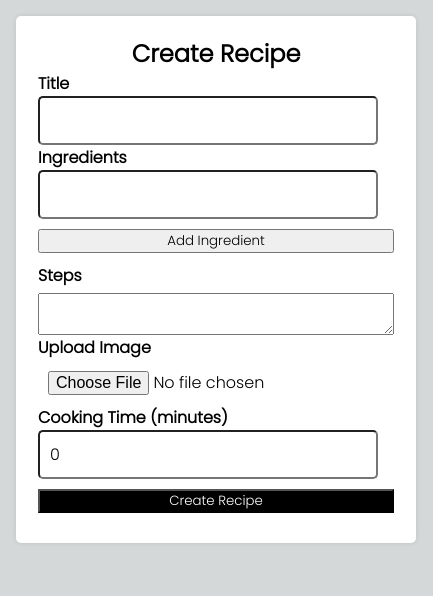
Test: AddRecipe Component › displays validation error if required fields are missing
The width and height of the screenshot is (433, 596).
Click the button "Create Recipe" at (216, 501), box [38,489,394,513]
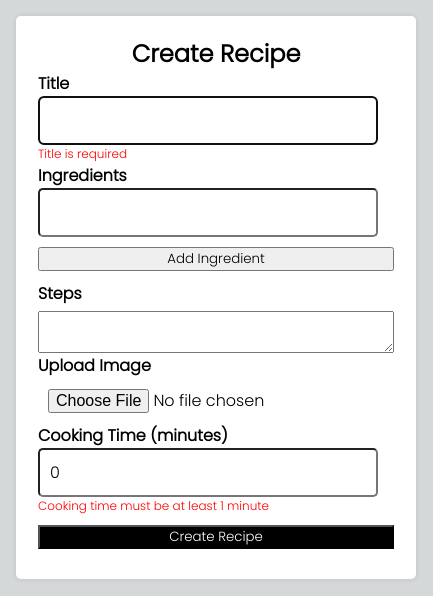
Expected: the text "Title is required" is shown, [38,145,127,162]
Expected: the text "Cooking time must be at least 1 minute" is shown, [38,497,269,514]
